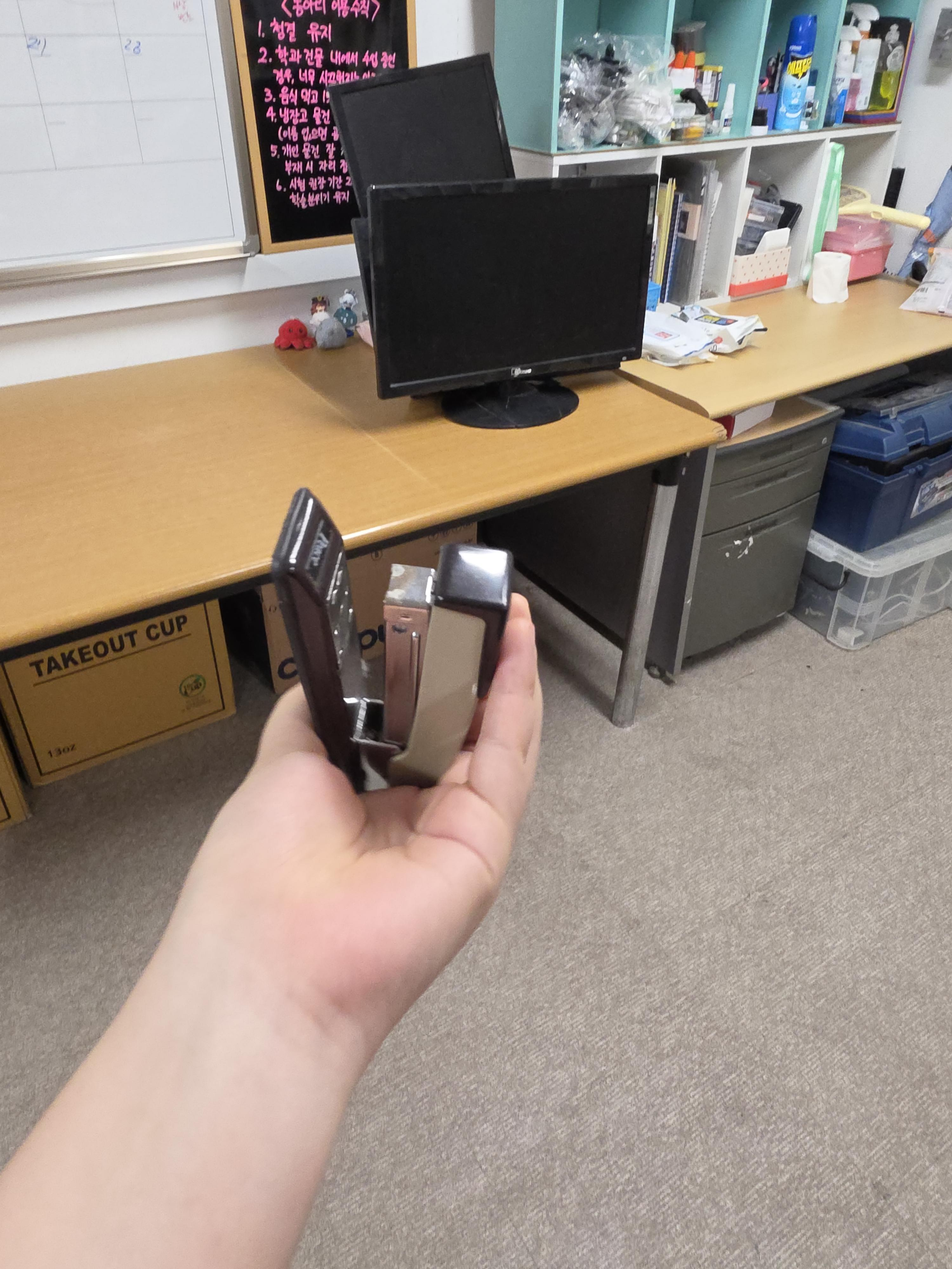stapler: (271, 487, 514, 793)
tissue: (730, 227, 792, 298), (808, 250, 852, 305)
